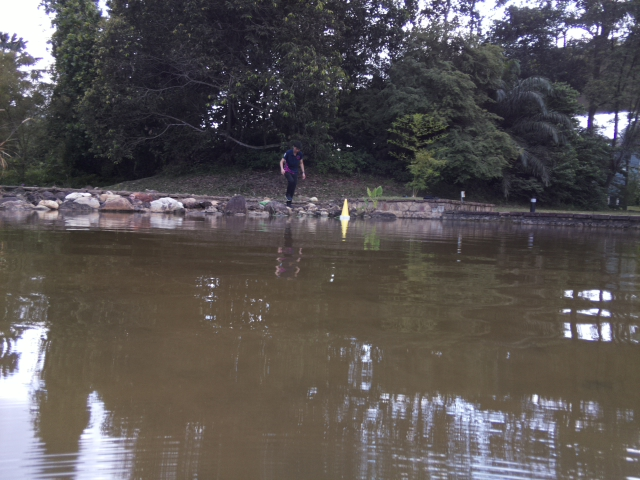checkpoint: (339, 198, 352, 221)
